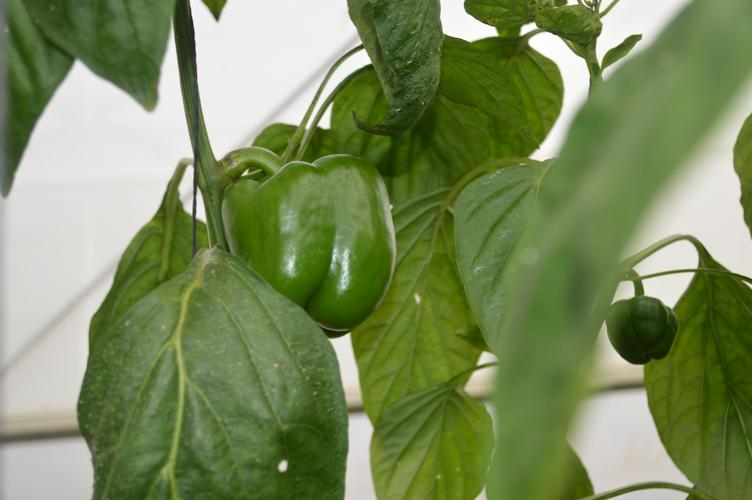BellPepper: (216, 154, 395, 345), (596, 295, 676, 368)
